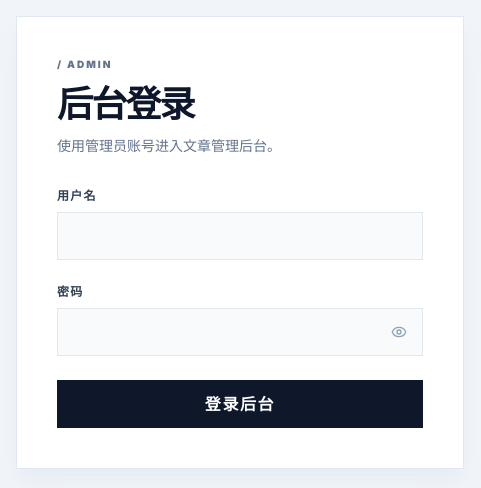
it: AdminLogin page › starts with empty credentials and toggles password visibility
The width and height of the screenshot is (481, 488).
expect the field labelled "用户名" is empty: met, box left=57, top=212, right=423, bottom=260
Type "wrong-password" into the password field labelled "密码" at [240, 332], box left=57, top=308, right=423, bottom=356
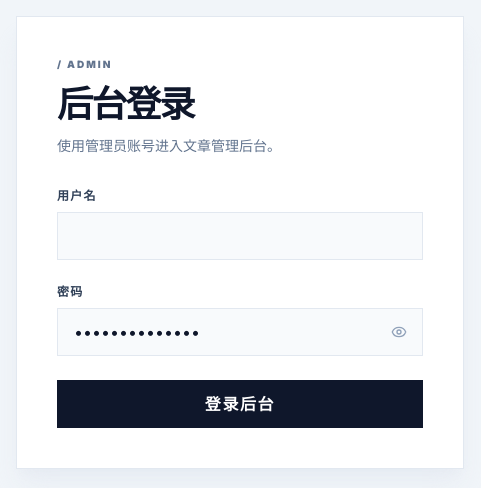
Click the button named "显示密码" at [399, 332], box left=375, top=308, right=423, bottom=356
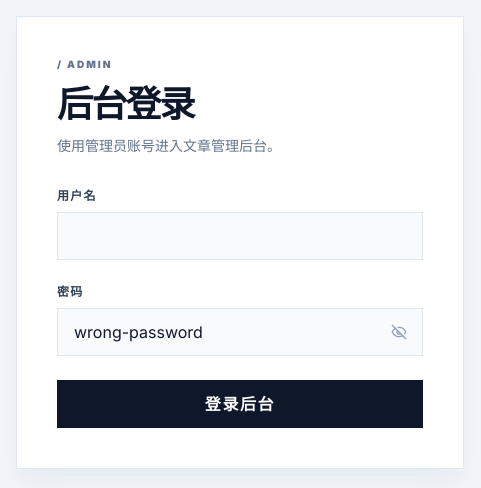
expect the button named "隐藏密码" is shown: met, box left=375, top=308, right=423, bottom=356
